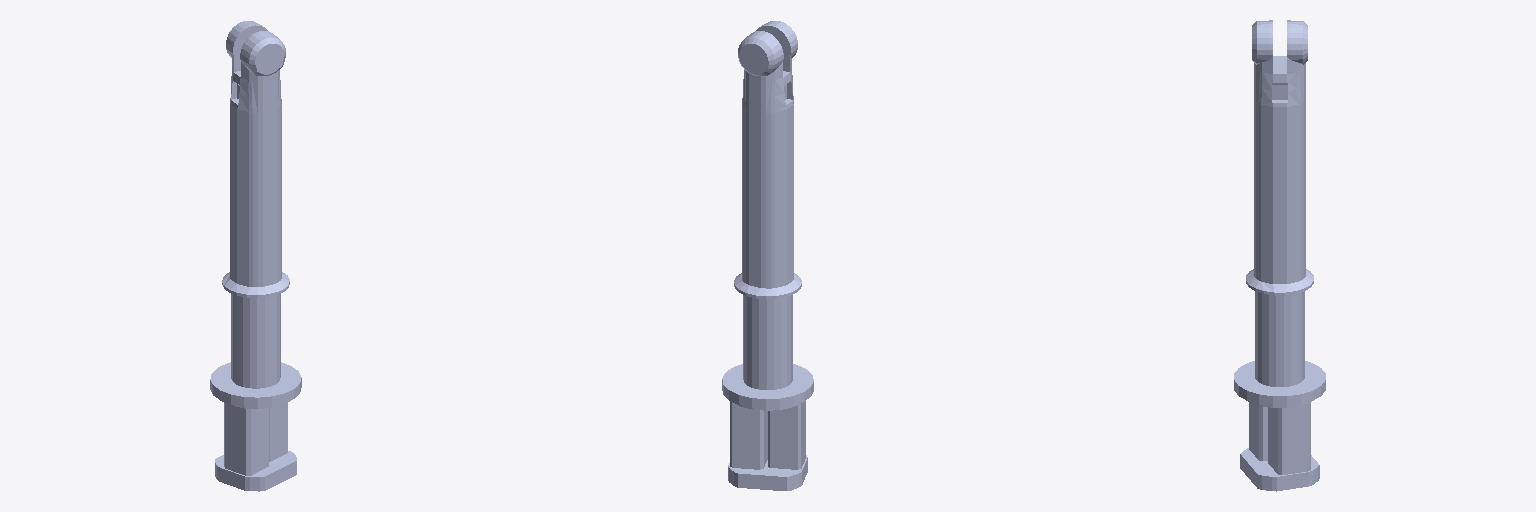
URDF robot description (link4):
<robot
  name="link4">
  <link
    name="link4_fixed_coordinate">
    <inertial>
      <origin
        xyz="-5.9023E-14 -2.8014E-06 1.8685"
        rpy="0 0 0" />
      <mass
        value="11.024" />
      <inertia
        ixx="1.04704842520385"
        ixy="-0.00134671229464563"
        ixz="2.37218448689338E-13"
        iyy="1.04790395781747"
        iyz="1.57581187974158E-05"
        izz="0.0232013100878432" />
    </inertial>
    <visual>
      <origin
        xyz="0 0 0"
        rpy="0 0 0" />
      <geometry>
        <mesh
          filename="package://link4_fixed_coordinate/meshes/link4_fixed_coordinate.STL" />
      </geometry>
      <material
        name="">
        <color
          rgba="0.79216 0.81961 0.93333 1" />
      </material>
    </visual>
    <collision>
      <origin
        xyz="0 0 0"
        rpy="0 0 0" />
      <geometry>
        <mesh
          filename="package://link4_fixed_coordinate/meshes/link4_fixed_coordinate.STL" />
      </geometry>
    </collision>
  </link>
</robot>

--- Facts derived from the render (not from the file) ---
Views: 3 orthographic renders of the robot side by side, from view 1: azimuth 30°, elevation 25°; view 2: azimuth 150°, elevation 25°; view 3: azimuth 270°, elevation 25°.
Model link4 with 1 links and 0 joints (none), rooted at link4_fixed_coordinate, posed all joints at 0.
Visible links, largest first — view 1: link4_fixed_coordinate; view 2: link4_fixed_coordinate; view 3: link4_fixed_coordinate.
Link boxes in pixels (<box>): link4_fixed_coordinate: <box>210,21,301,491</box>; link4_fixed_coordinate: <box>722,21,813,490</box>; link4_fixed_coordinate: <box>1234,20,1325,491</box>.
Bounding box of the posed robot: 0.195 × 0.195 × 1.06 m (x, y, z).
Meshes: 1 distinct files referenced, 1 mesh visuals loaded (1 binary STL).